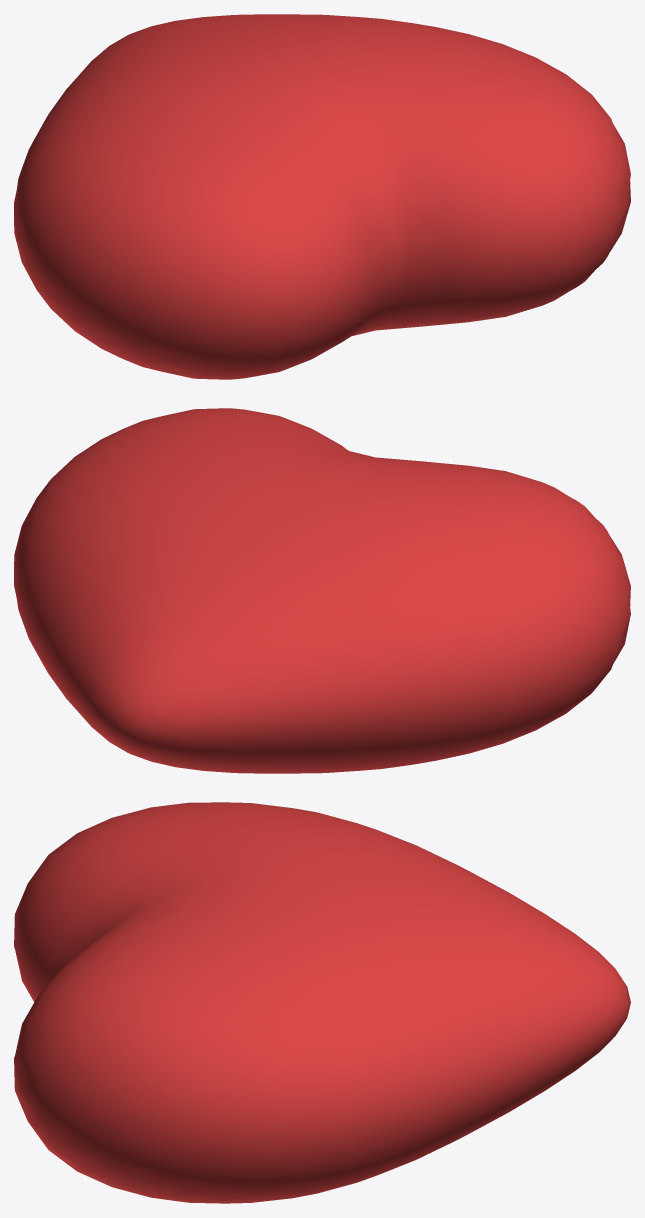
Rendered from heart-reduced.glb.
The picture shows the model from 3 angles, top to bottom: view 1: azimuth 30°, elevation 25°; view 2: azimuth 150°, elevation 25°; view 3: azimuth 270°, elevation 25°; orthographic projection. The views are drawn at different scales.
Visible parts, largest first — view 1: 12190_Heart_v1_L3; view 2: 12190_Heart_v1_L3; view 3: 12190_Heart_v1_L3.
Boxes of the visible parts, box(x1,y1,x2,y2) form: 12190_Heart_v1_L3: box(14, 14, 630, 379); 12190_Heart_v1_L3: box(14, 408, 630, 773); 12190_Heart_v1_L3: box(14, 802, 630, 1203).
Bounding box in the file's own units: 21.25 × 9.12 × 19.87.
